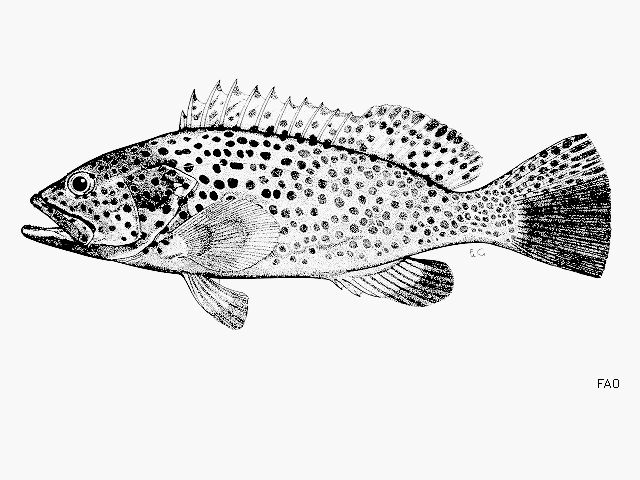fish: (21, 78, 612, 330)
